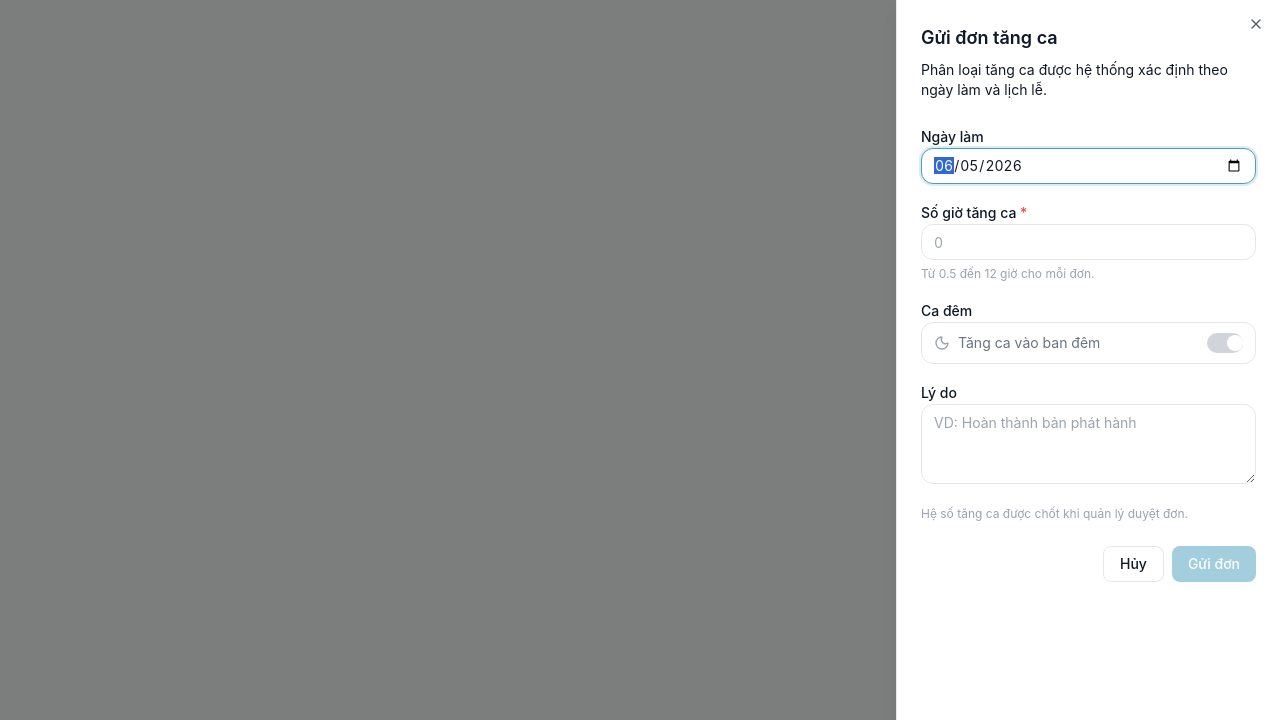
Test: OvertimeSheet date validation at the VN day boundary › keeps submit enabled for today (GMT+7) during the 00:00–07:00 VN window
Check: the date field labelled "Ngày làm" holds "2026-06-05", box [921,148,1256,184]
Type "4" into the number field labelled "Số giờ tăng ca *" at (1088, 242), box [921,224,1256,260]
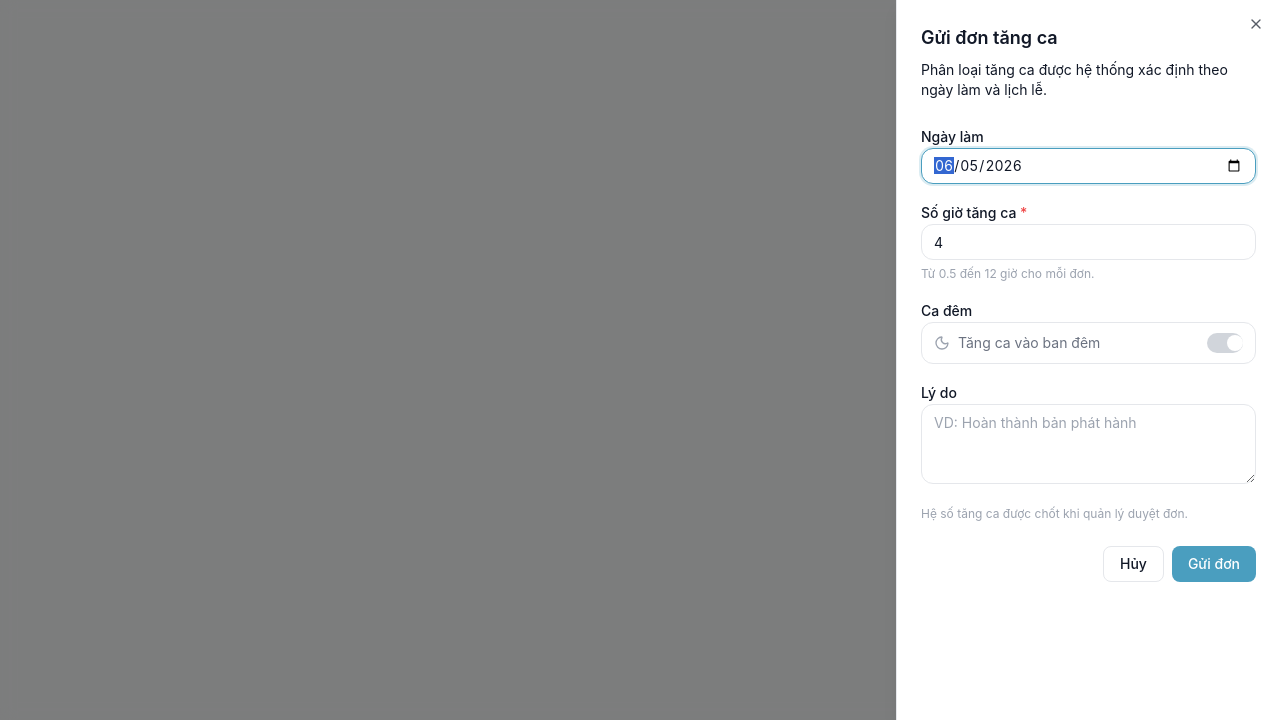
Check: the button "Gửi đơn" is enabled, box [1172,546,1256,582]
